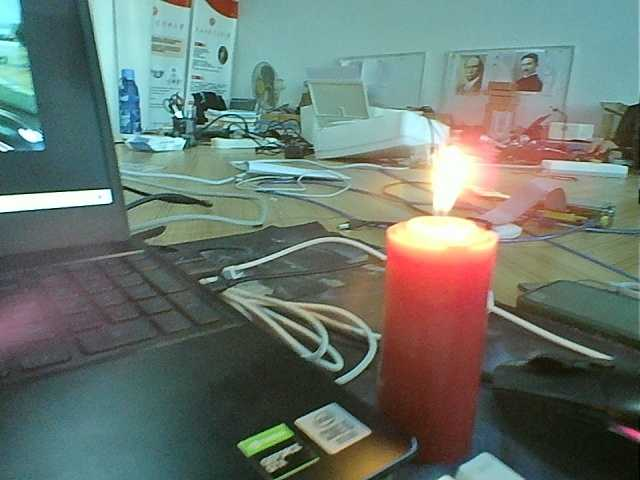candle: (375, 200, 511, 460)
fire: (397, 134, 499, 248)
